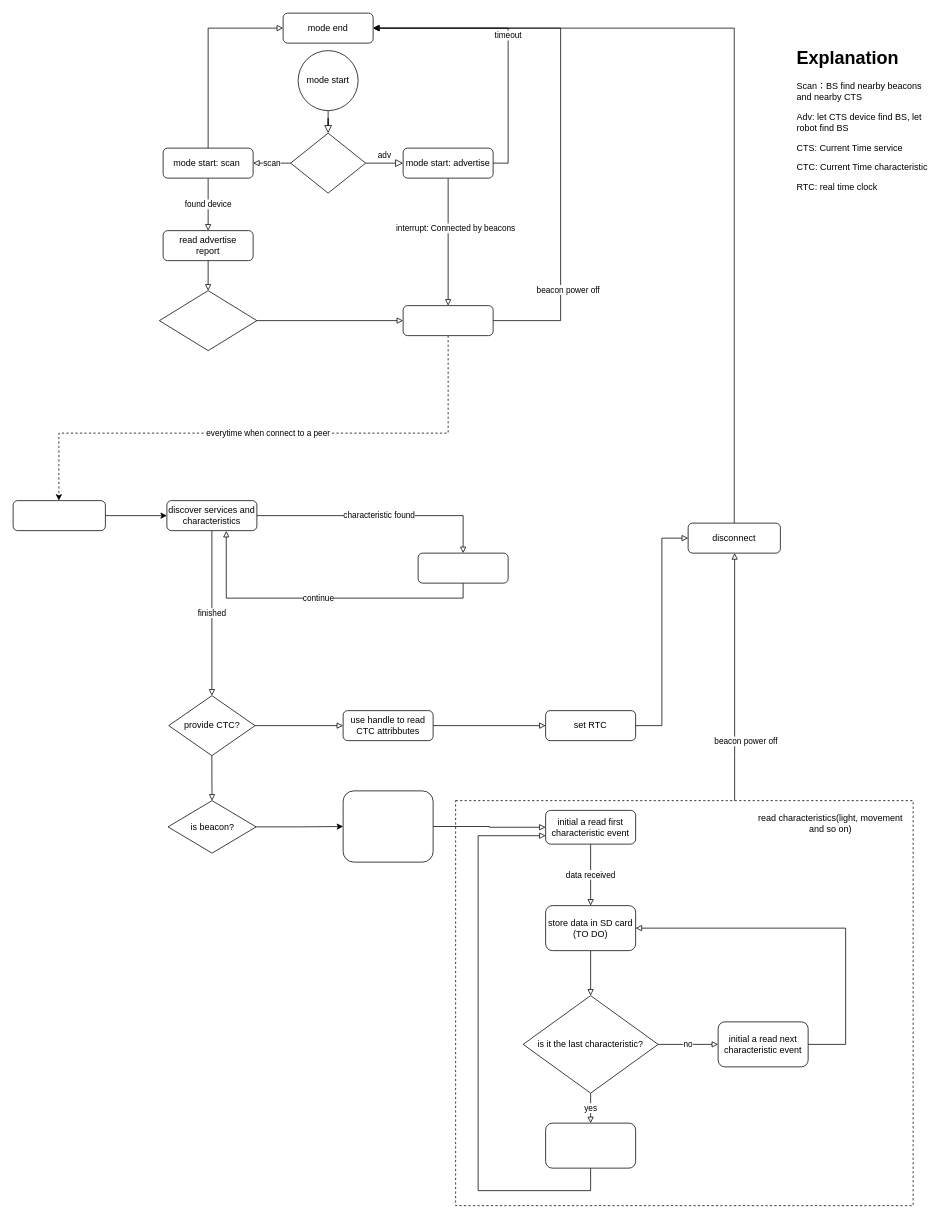
Some shapes in this 949 by 1219 pixel diagram are drawn without their labels. The shapes that lost their labels are listed below. From the top down, each one's box as (x1, y1, x2, y2) in pixels, then its label:
(290, 132, 366, 193): flag
(159, 290, 257, 351): uuid = CTS or 0xaa80(beacon)
(402, 305, 493, 336): mode start: connect
(12, 500, 105, 531): connected
(417, 552, 508, 583): get handles from callbacks and store them in memory
(342, 790, 433, 862): write commands to all characteristics
(545, 1122, 636, 1168): wait 10s
